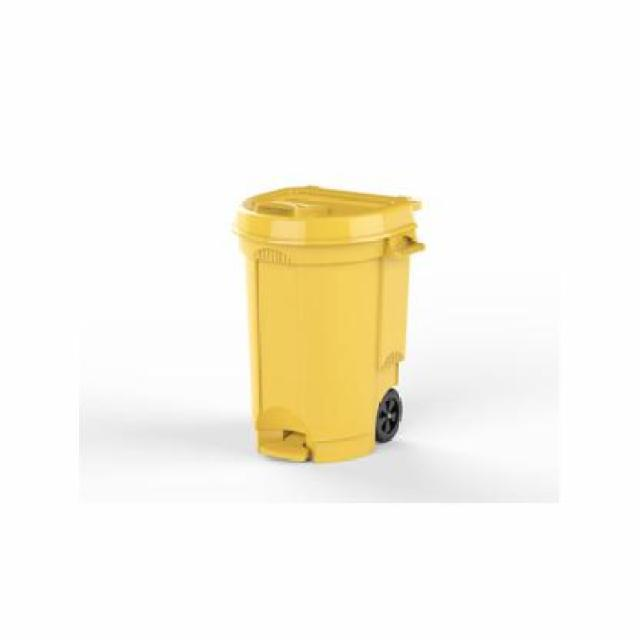garbage container: (230, 165, 436, 484)
